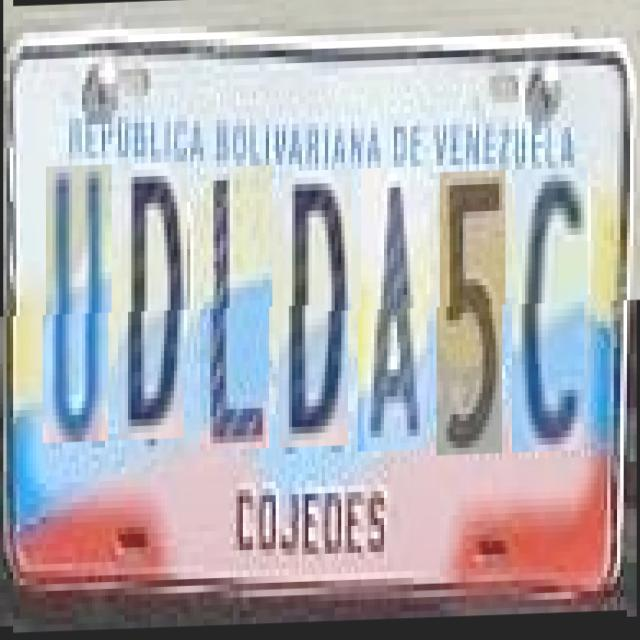5: (440, 174, 506, 459)
A: (361, 170, 430, 454)
C: (516, 172, 588, 456)
D: (282, 172, 351, 450), (122, 163, 187, 441)
L: (204, 167, 272, 452)
U: (46, 165, 112, 443)
